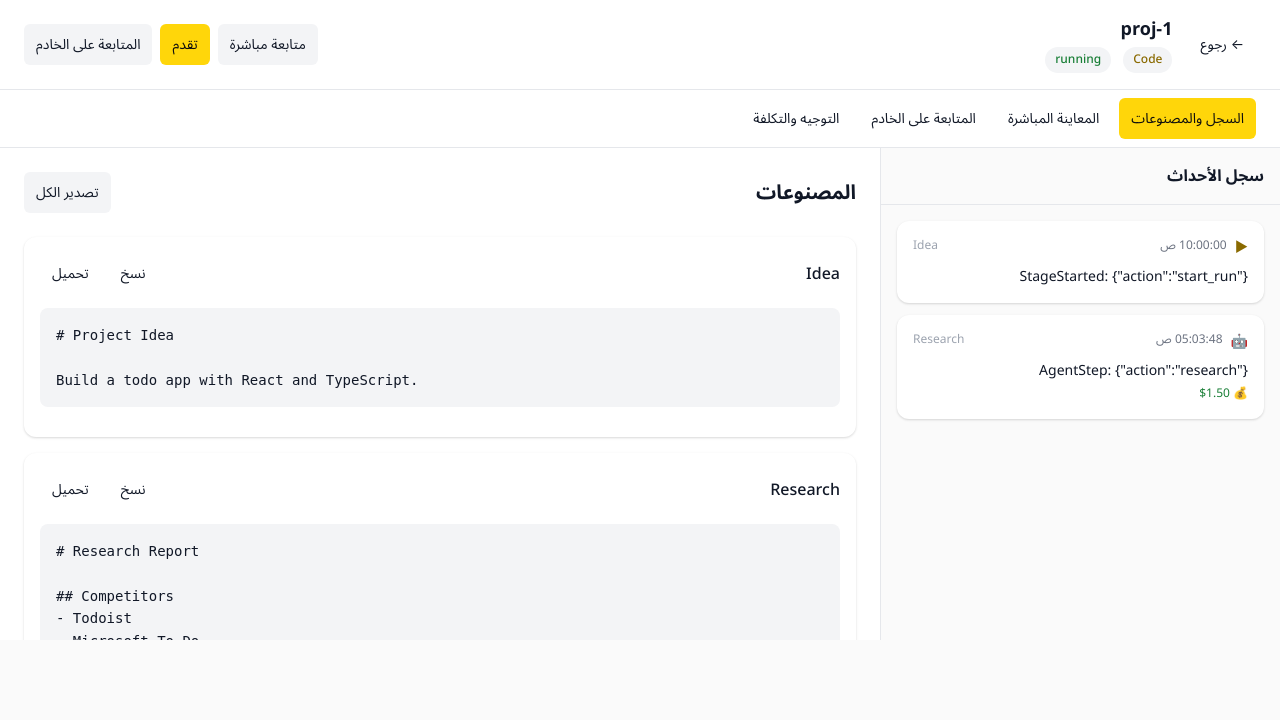
run view mounts › opens the handoff dialog from the run view header and closes it again
Click the button with test id "handoff-open". click: (88, 44)
box: [24,24,152,65]
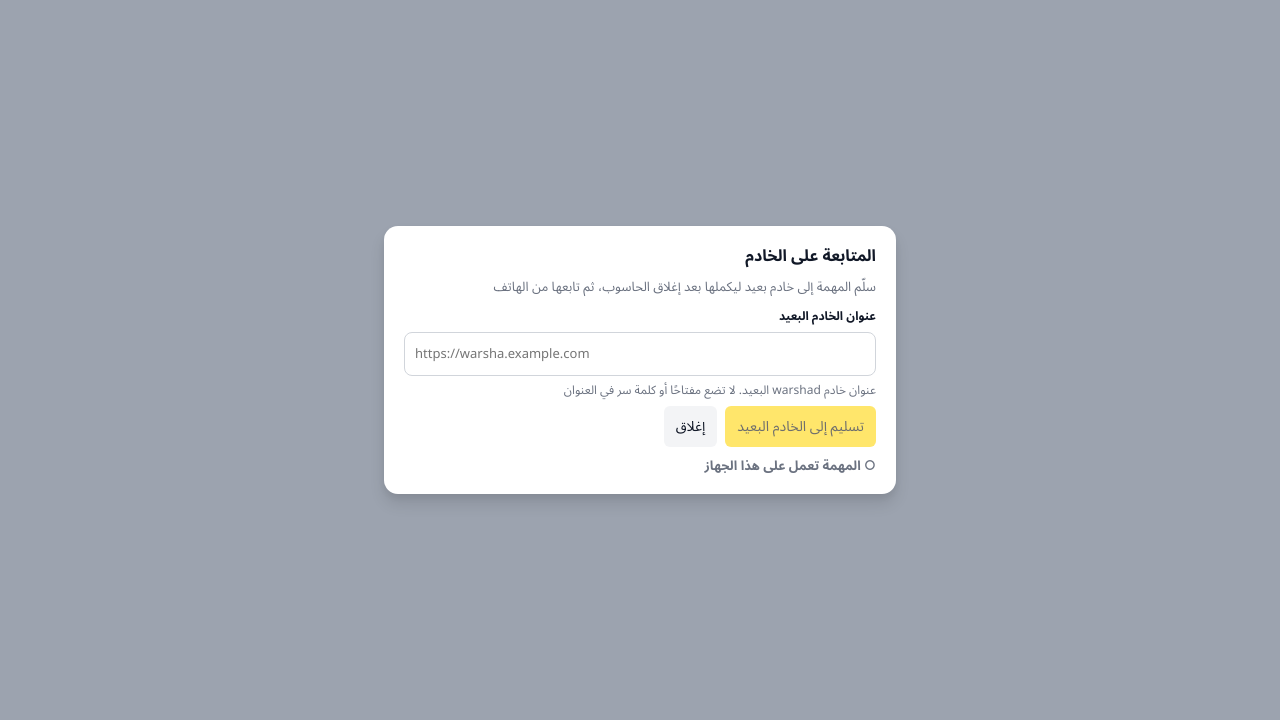
Click the button with test id "handoff-close". click: (691, 426)
box: [664,406,717,446]
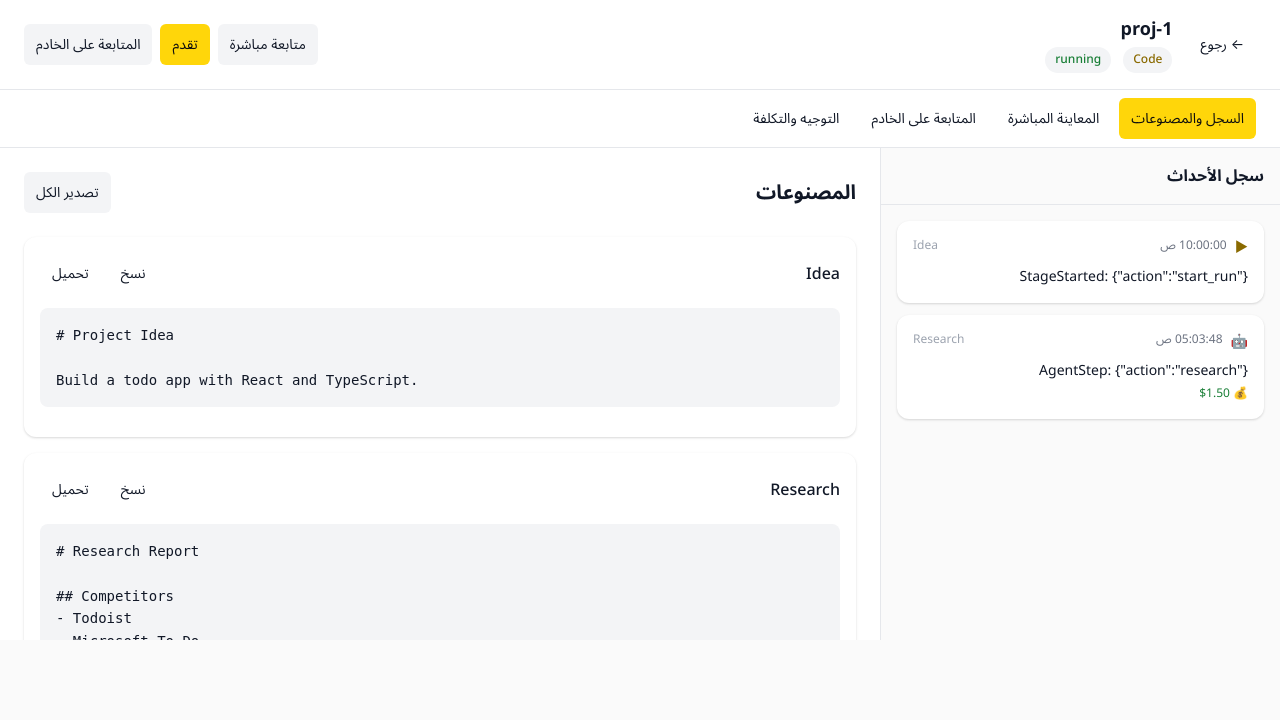
Now the dialog with test id "handoff-dialog" is gone
